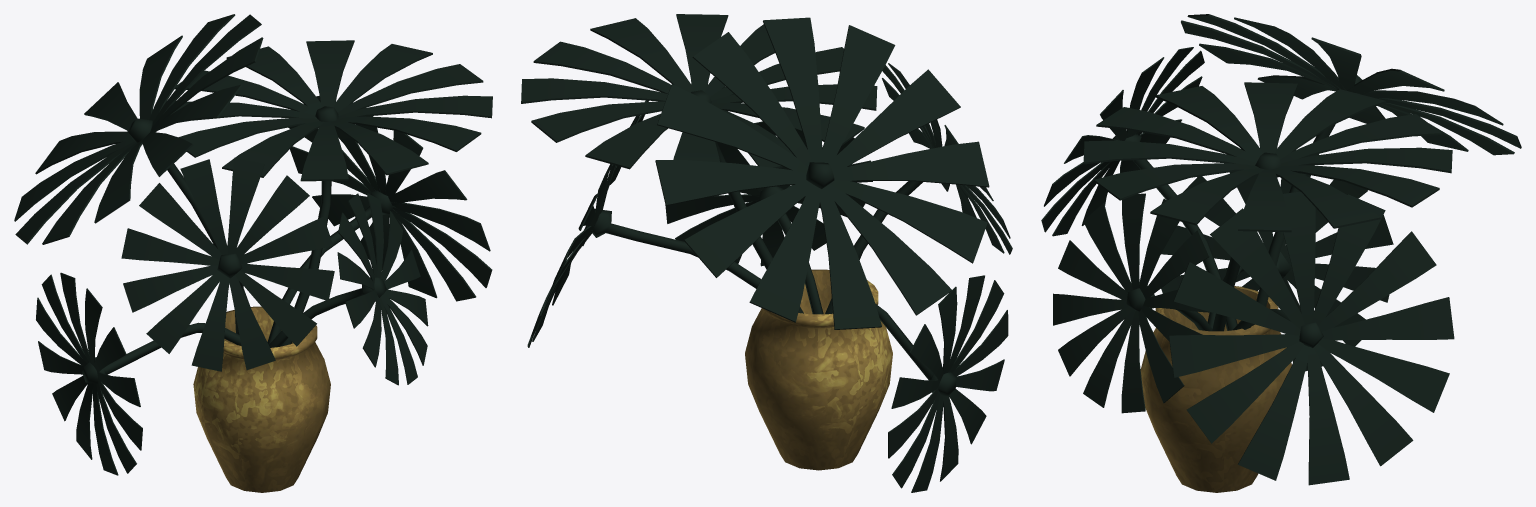
File: DI_025_plant.glb
3 renders of one model, left to right at view 1: azimuth 30°, elevation 25°; view 2: azimuth 150°, elevation 25°; view 3: azimuth 270°, elevation 25°, orthographic. The views are drawn at different scales.
Visible parts, largest first — view 1: Leafs.006, Leafs.002, Leafs.001, Pot.003, Leafs.003, Leafs.005, Leafs.004, Stems; view 2: Leafs.001, Leafs.002, Pot.003, Leafs.005, Stems, Leafs.004, Leafs.006, Leafs.003; view 3: Leafs.003, Leafs.002, Leafs.004, Leafs.001, Pot.003, Leafs.006, Leafs.005, Stems.
Part boxes in pixels (x1,y1,x2,y2): Leafs.006: (121, 157, 334, 371); Leafs.002: (171, 40, 492, 181); Leafs.001: (14, 14, 263, 244); Pot.003: (193, 306, 330, 492); Leafs.003: (288, 95, 492, 301); Leafs.005: (36, 272, 142, 475); Leafs.004: (337, 193, 428, 385); Stems: (82, 106, 393, 383); Leafs.001: (655, 17, 989, 329); Leafs.002: (521, 14, 877, 169); Pot.003: (745, 269, 892, 470); Leafs.005: (888, 275, 1008, 492); Stems: (586, 90, 956, 395); Leafs.004: (665, 121, 872, 266); Leafs.006: (882, 63, 1012, 254); Leafs.003: (527, 100, 648, 347); Leafs.003: (1169, 191, 1454, 485); Leafs.002: (1083, 82, 1452, 232); Leafs.004: (1053, 193, 1211, 413); Leafs.001: (1181, 14, 1521, 155); Pot.003: (1140, 286, 1291, 492); Leafs.006: (1041, 47, 1204, 236); Leafs.005: (1161, 165, 1393, 371); Stems: (1112, 75, 1362, 347).
Size of the model in its own units: 2.34 by 2.25 by 2.11.
Materials: 2 (1 with a texture image).
